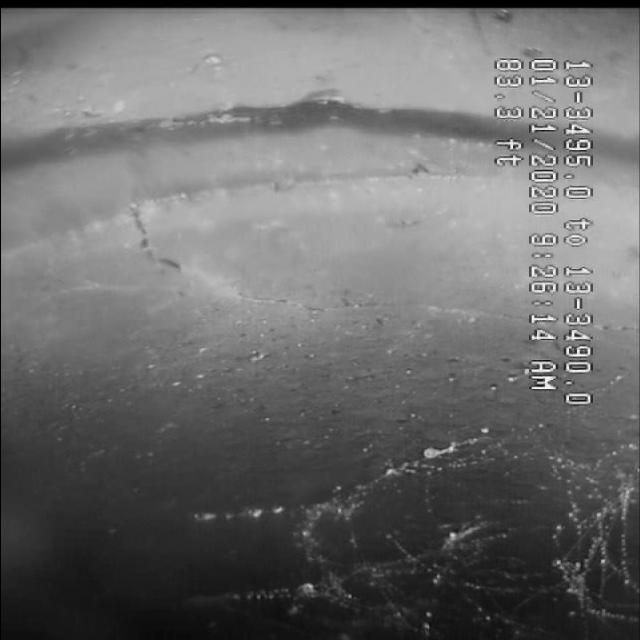Crack: (134, 222, 418, 346)
